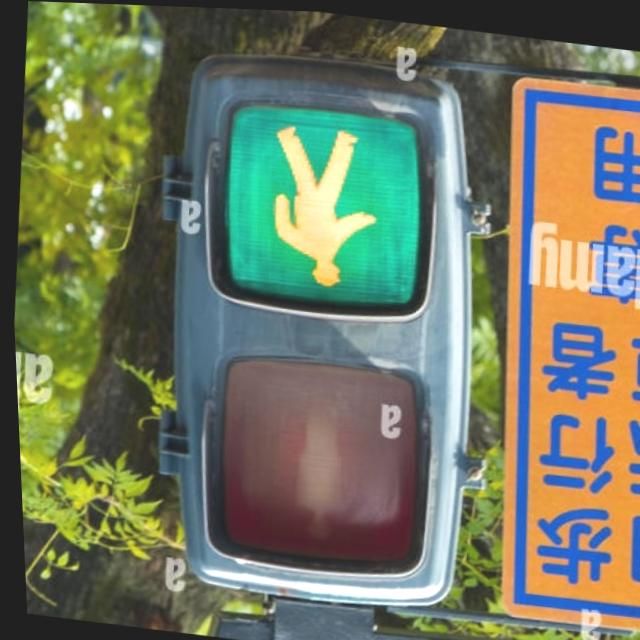green_light: (238, 105, 403, 309)
